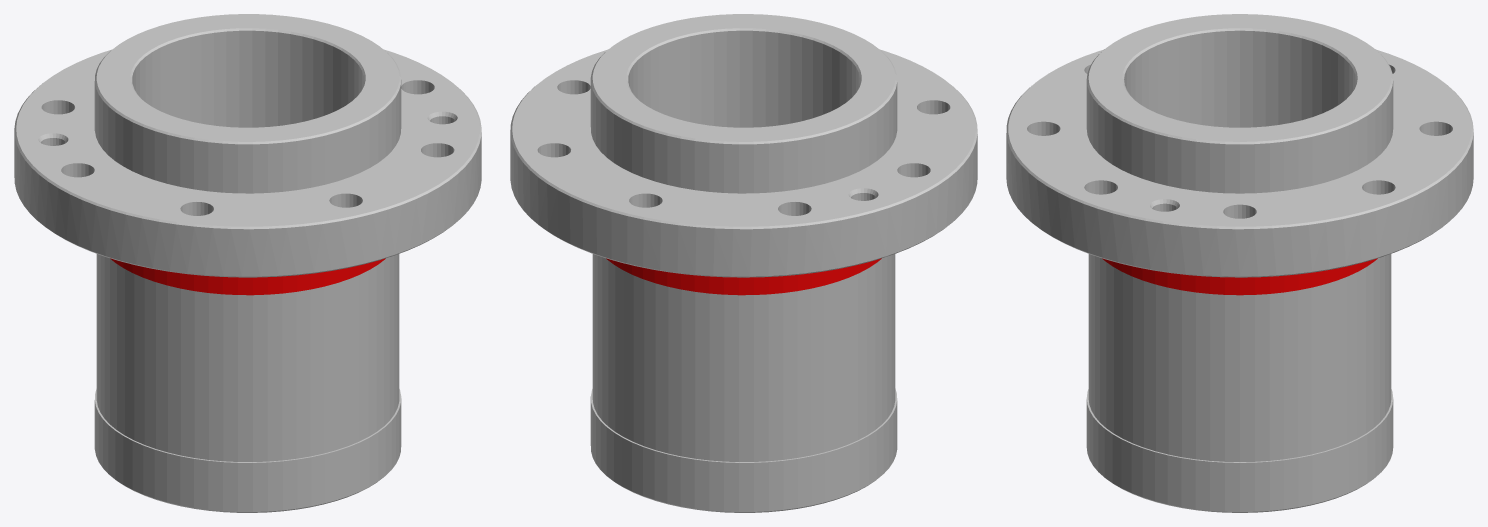
Rendered from 12_stp_9_10.obj.
The picture shows the model from 3 angles, left to right: view 1: azimuth 30°, elevation 25°; view 2: azimuth 150°, elevation 25°; view 3: azimuth 270°, elevation 25°; orthographic projection.
Parts seen in each view (by area): view 1: Object1; view 2: Object1; view 3: Object1.
Boxes of the visible parts, left/top/right/bottom form: Object1: left=14, top=14, right=481, bottom=512; Object1: left=510, top=14, right=977, bottom=512; Object1: left=1006, top=14, right=1473, bottom=512.
Size of the model in its own units: 125 by 110 by 125.
